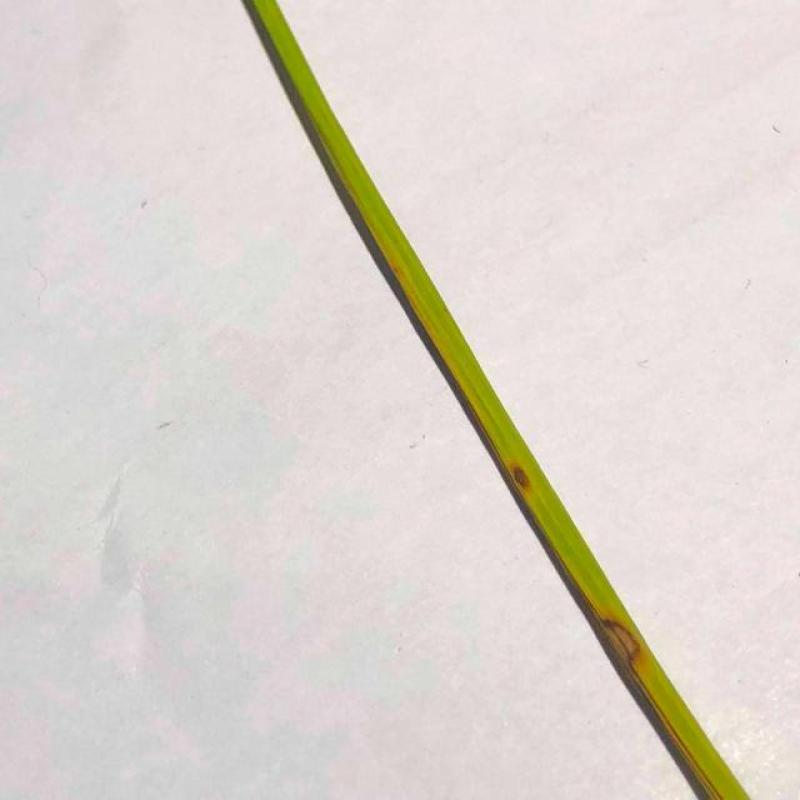Leaf_Blast: (565, 556, 704, 732), (506, 454, 544, 506)
